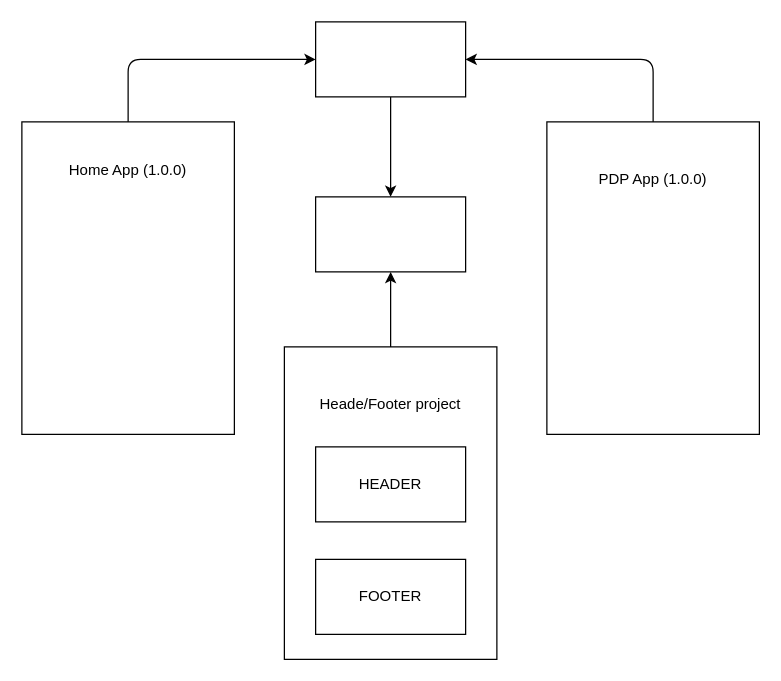
The diagram is 781 pixels wide and 681 high, and some of its shapes have lost their labels. The centre of each missing label's shape, as x and y in pixels:
"S3 Artifacts" belongs at pixel 390 234.
"Shim library" belongs at pixel 390 59.
